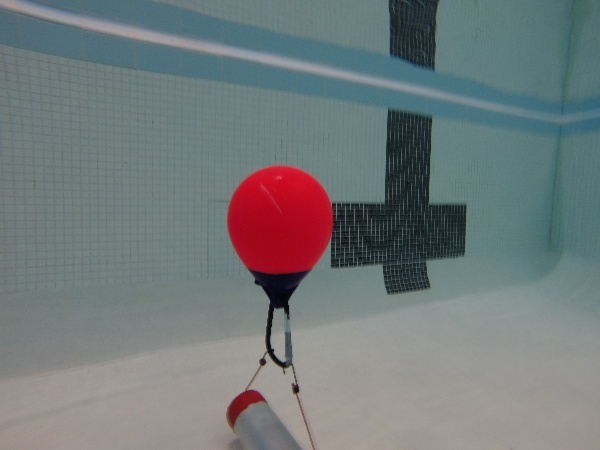buoy_red: (222, 163, 333, 311)
